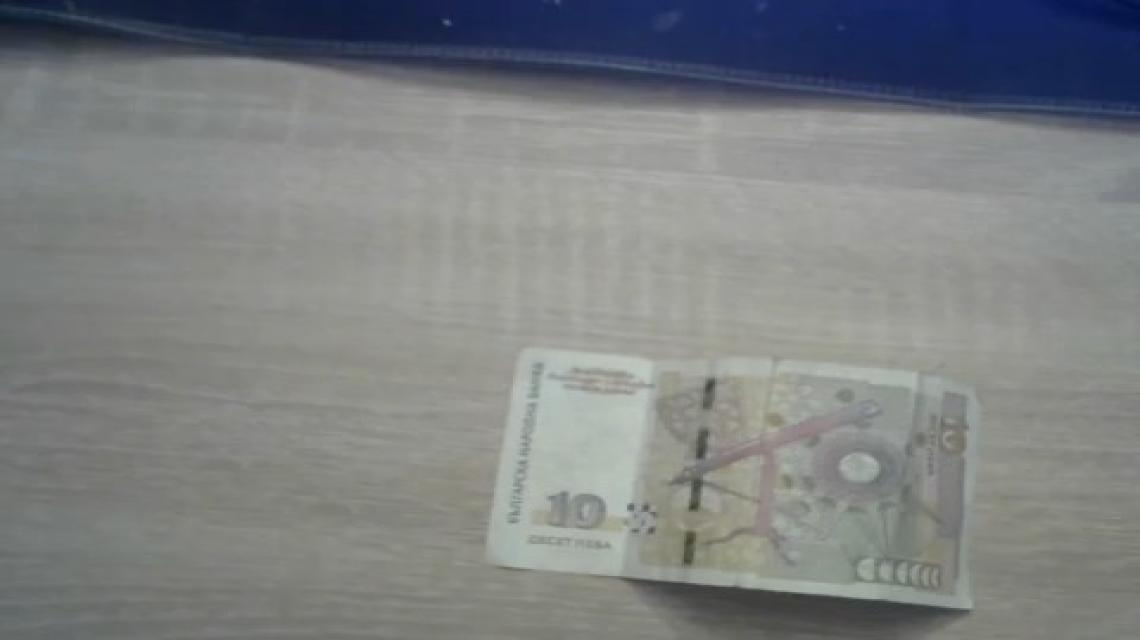10leva: (482, 348, 983, 612)
